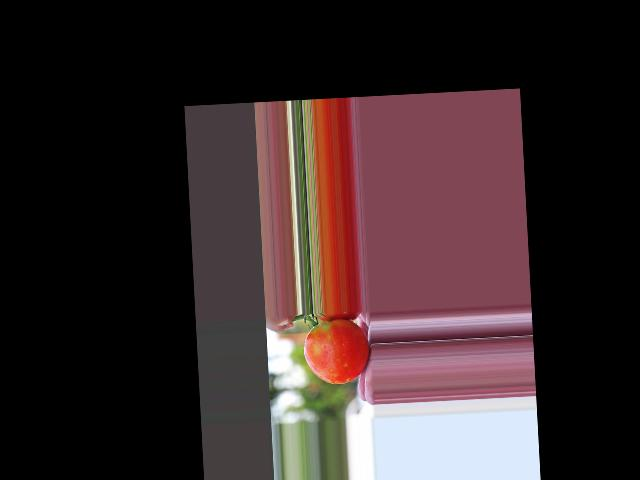tomato: (302, 318, 370, 385)
